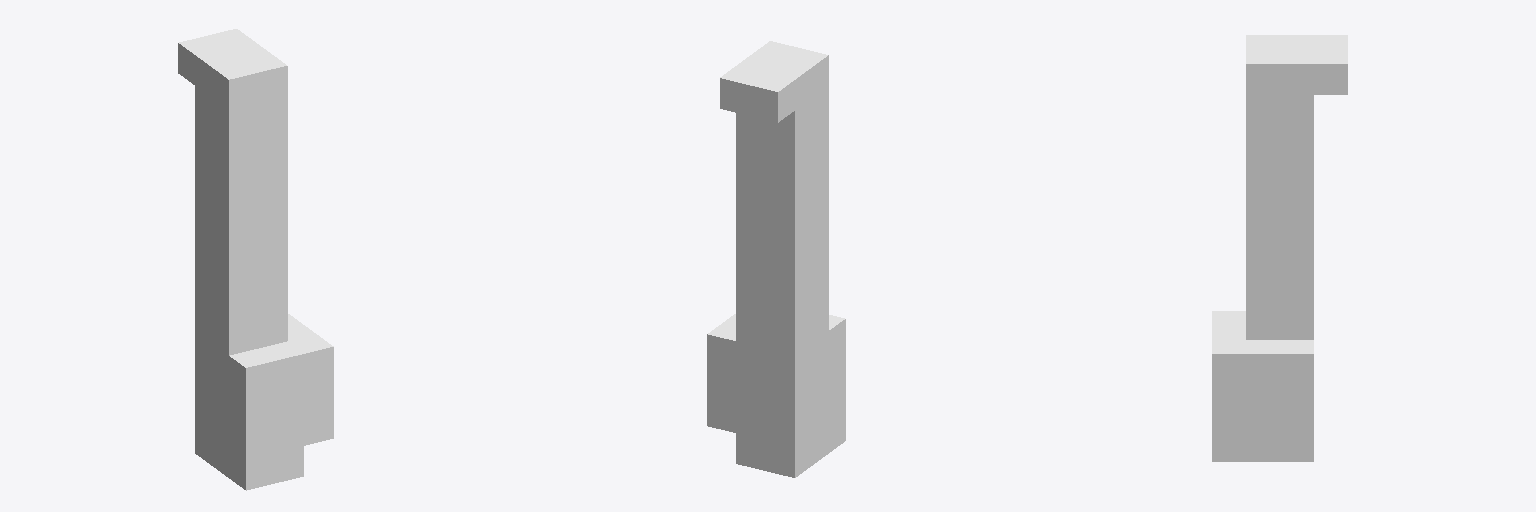
File: a792_BasicGuard_forearm_R.obj
3 renders of one model, left to right at view 1: azimuth 30°, elevation 25°; view 2: azimuth 150°, elevation 25°; view 3: azimuth 270°, elevation 25°, orthographic.
Bounding box in the file's own units: 3 × 13 × 4.